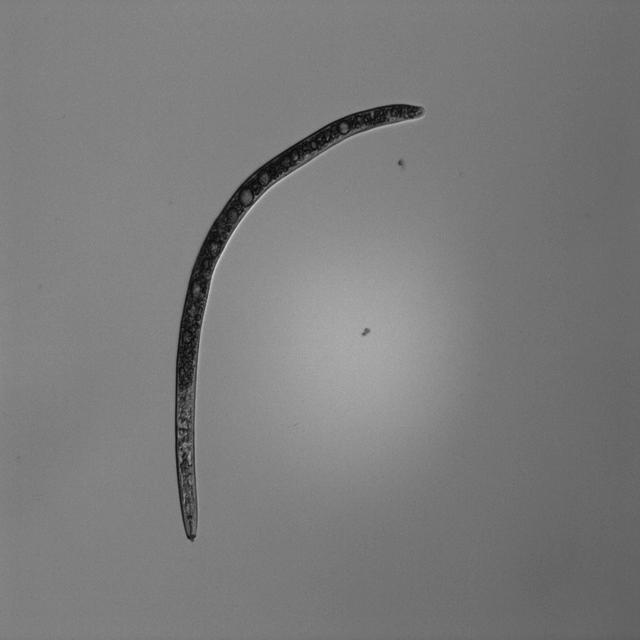Pratylenchus: (163, 94, 436, 550)
